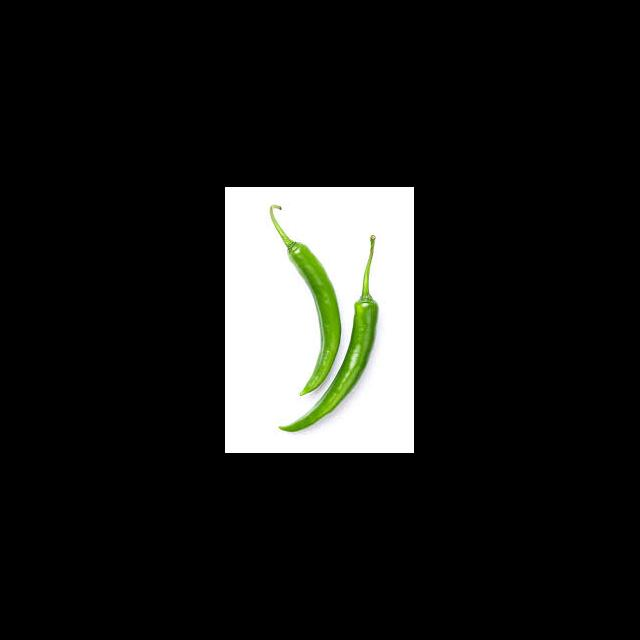chili_pepper: (268, 206, 344, 399), (330, 303, 378, 414)
